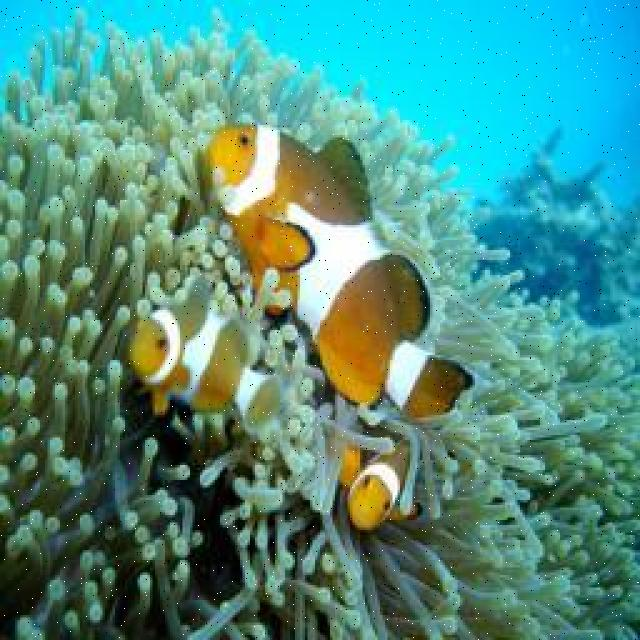fish: (206, 123, 478, 420), (129, 299, 285, 432), (338, 437, 426, 533)
reefs: (0, 0, 638, 638), (476, 123, 638, 345)
